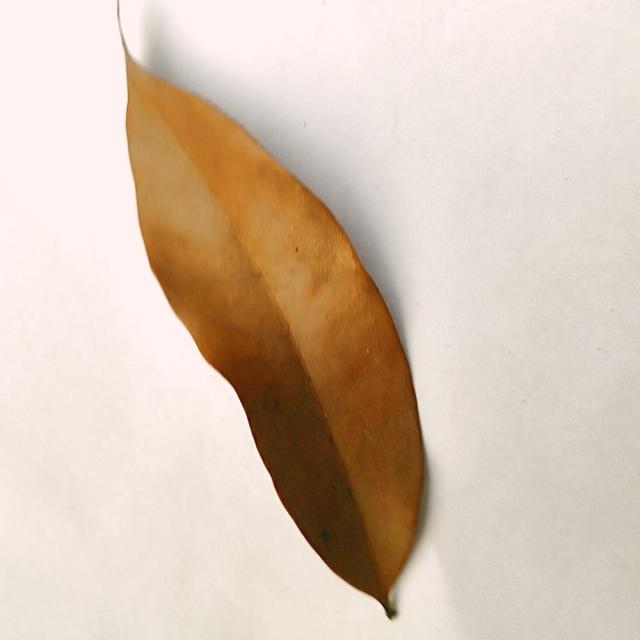Dry_Leaf-Lychee: (125, 56, 430, 616)
